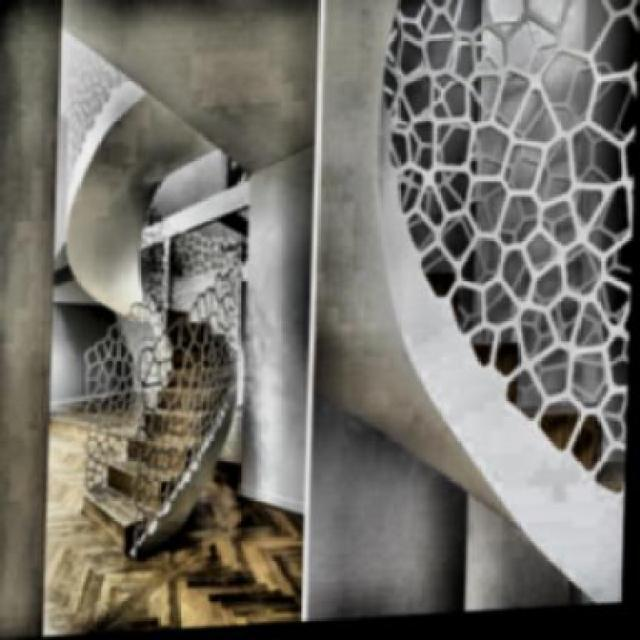stair: (86, 286, 249, 566)
